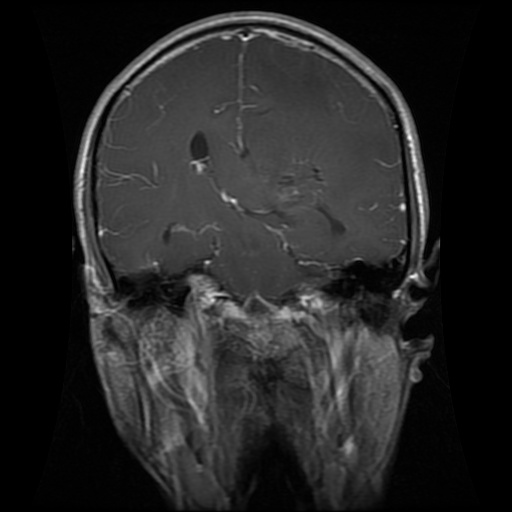glioma: (263, 148, 326, 213)
